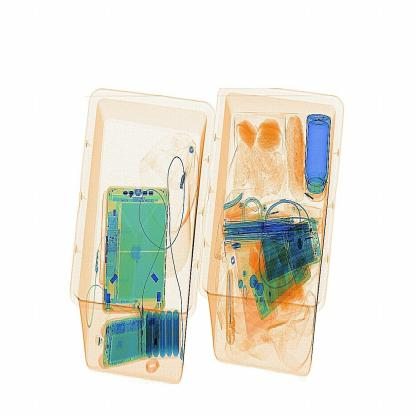pliers: (226, 266, 237, 348)
